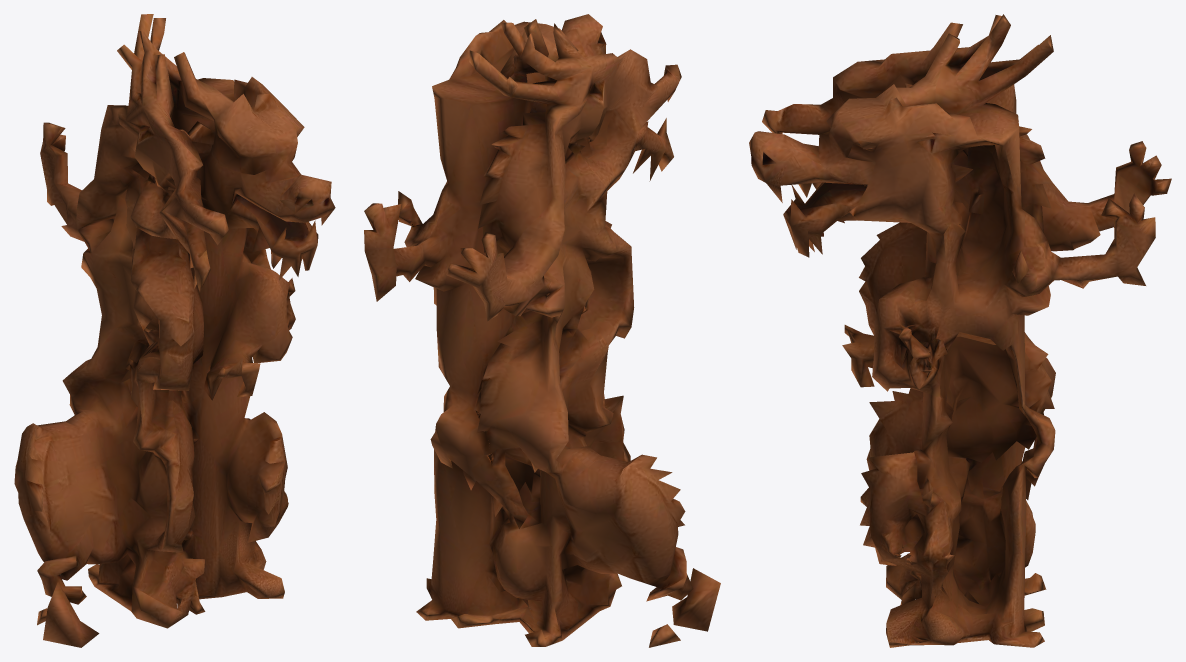
The model's file is panlong.glb.
3 views of the same model, side by side, from view 1: azimuth 30°, elevation 25°; view 2: azimuth 150°, elevation 25°; view 3: azimuth 270°, elevation 25° (orthographic). The views are drawn at different scales.
Visible parts, largest first — view 1: node_90515088-fb7b-4ea3-95ac-691cc76a5460; view 2: node_90515088-fb7b-4ea3-95ac-691cc76a5460; view 3: node_90515088-fb7b-4ea3-95ac-691cc76a5460.
Part boxes in pixels (x1,y1,x2,y2): node_90515088-fb7b-4ea3-95ac-691cc76a5460: [14, 14, 335, 647]; node_90515088-fb7b-4ea3-95ac-691cc76a5460: [364, 14, 720, 647]; node_90515088-fb7b-4ea3-95ac-691cc76a5460: [749, 14, 1171, 647].
Size of the model in its own units: 0.467 by 1 by 0.6438.
1 material, 1 textured.
